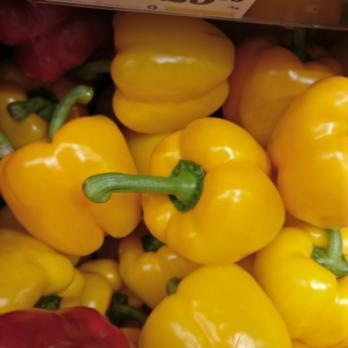Capsicum: (109, 28, 348, 348), (0, 66, 124, 348), (1, 4, 114, 80)
